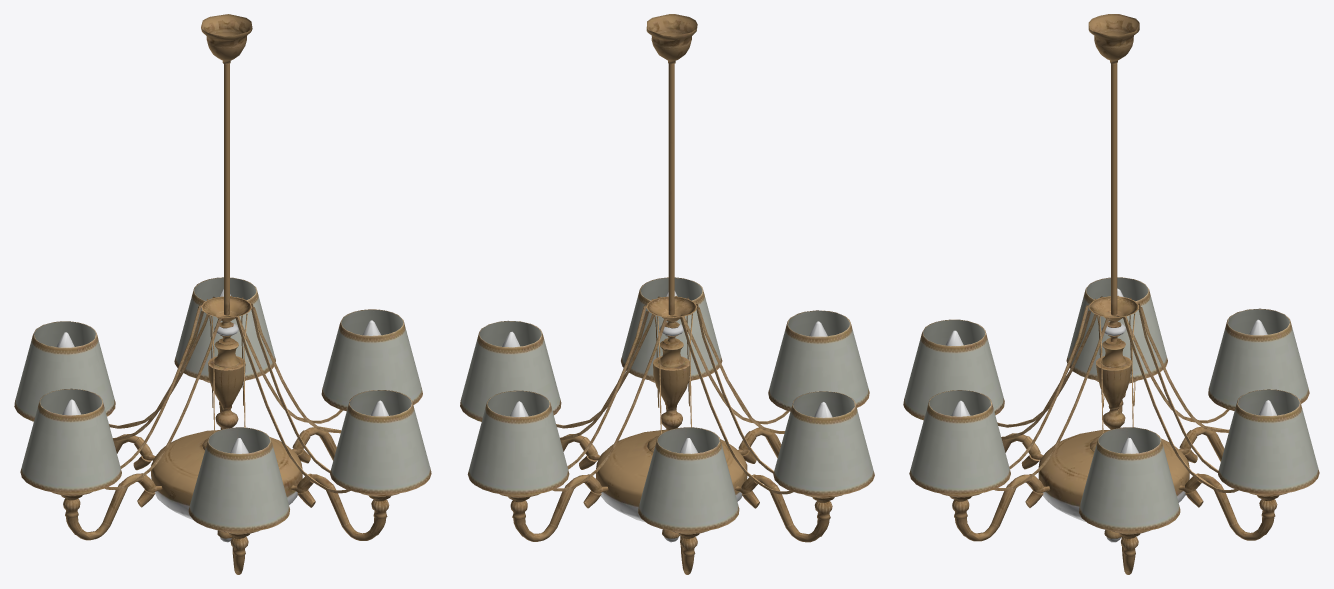
File: chandelier.glb
3 views of the same model, side by side, from view 1: azimuth 30°, elevation 25°; view 2: azimuth 150°, elevation 25°; view 3: azimuth 270°, elevation 25° (orthographic).
Parts seen in each view (by area): view 1: Chandelier_02; view 2: Chandelier_02; view 3: Chandelier_02.
Boxes of the visible parts, x1,y1,x2,y2 form: Chandelier_02: (14, 14, 431, 574); Chandelier_02: (460, 14, 874, 574); Chandelier_02: (903, 14, 1319, 574).
Size of the model in its own units: 0.679 by 0.8481 by 0.619.
Materials: 2 (1 with a texture image).
